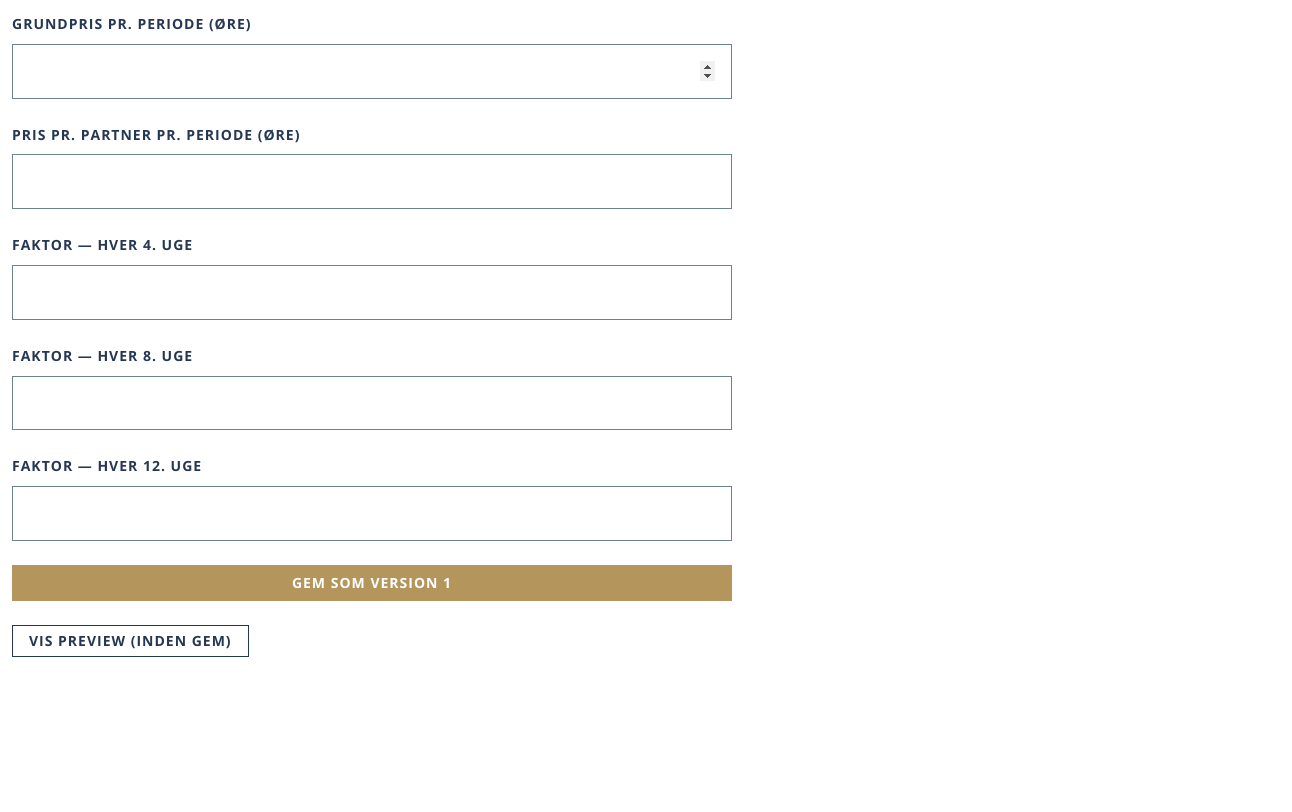
Scenario: PricingRuleForm — preview inden gem (ADR 0017-mønstret) › preview kan slås fra igen
What coordinates should you click on to do the following:
click the button "Vis preview (inden gem)"
I would click on:
 (130, 641)
Its box is [12, 625, 249, 657].
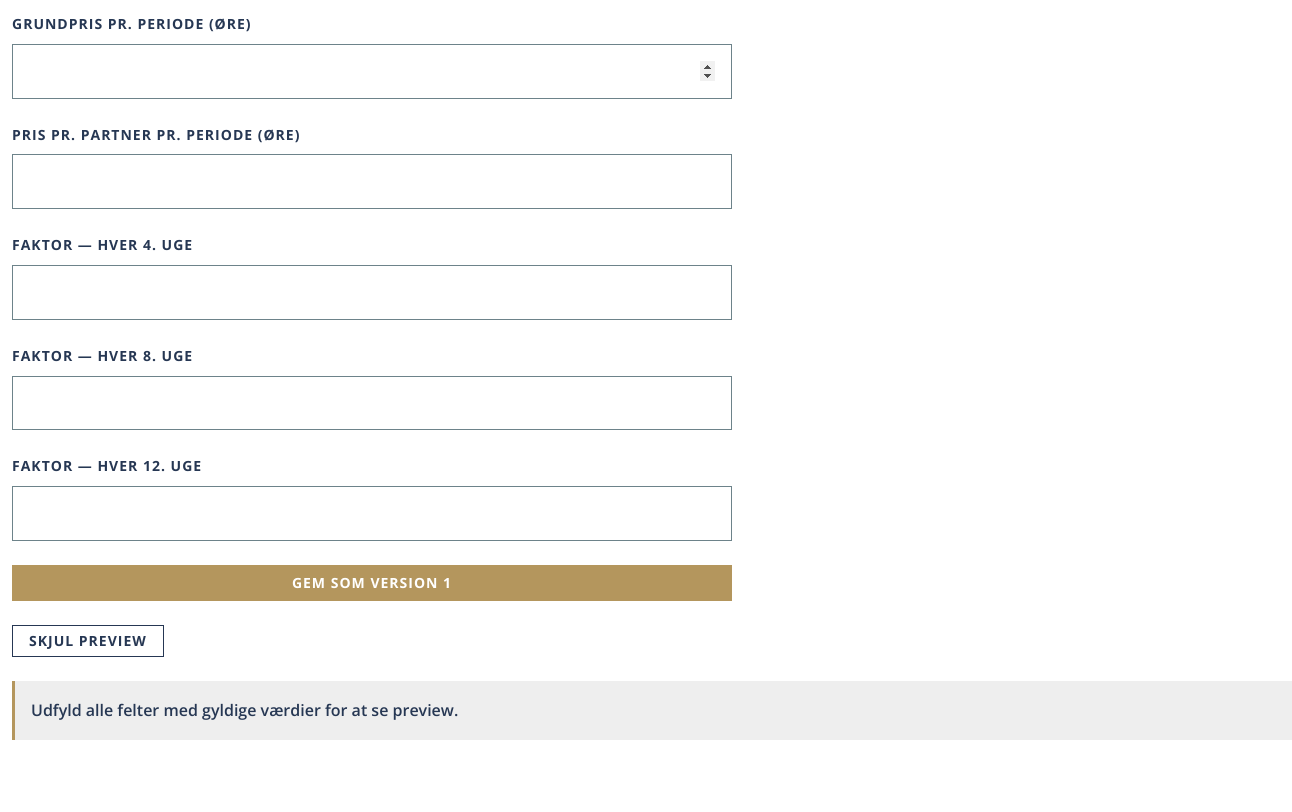
expect the button "Skjul preview" is expanded: met
What coordinates should you click on to do the following:
click the button "Skjul preview"
I would click on:
 (88, 641)
Its box is [12, 625, 164, 657].
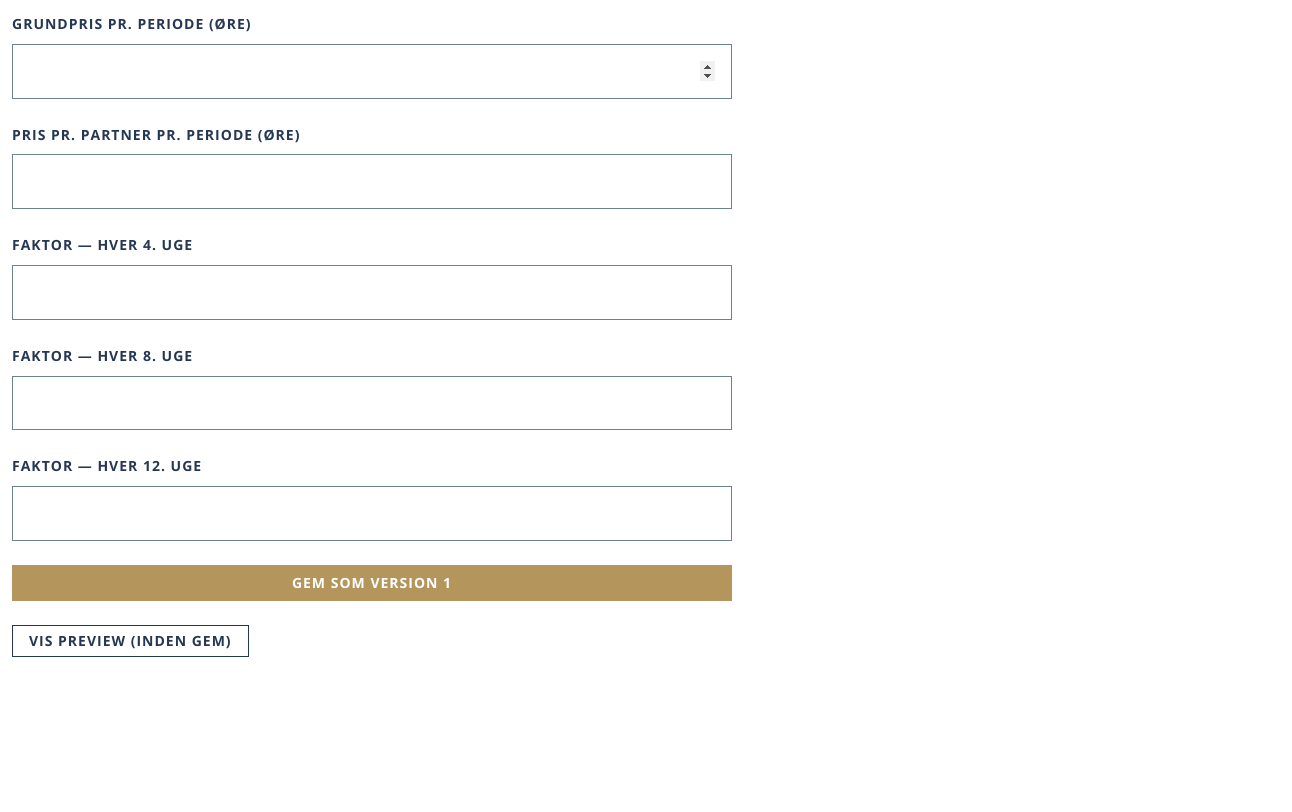
expect the button "Vis preview (inden gem)" is collapsed: met, box [12, 625, 249, 657]
